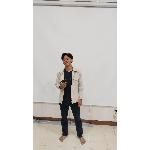Pistol: (59, 76, 79, 91)
